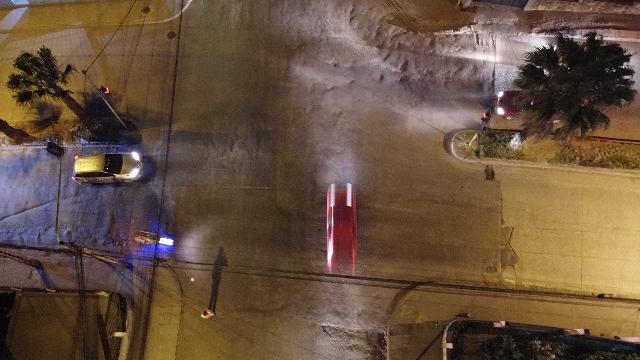Vehiculo: (494, 90, 566, 124), (74, 152, 142, 184)
